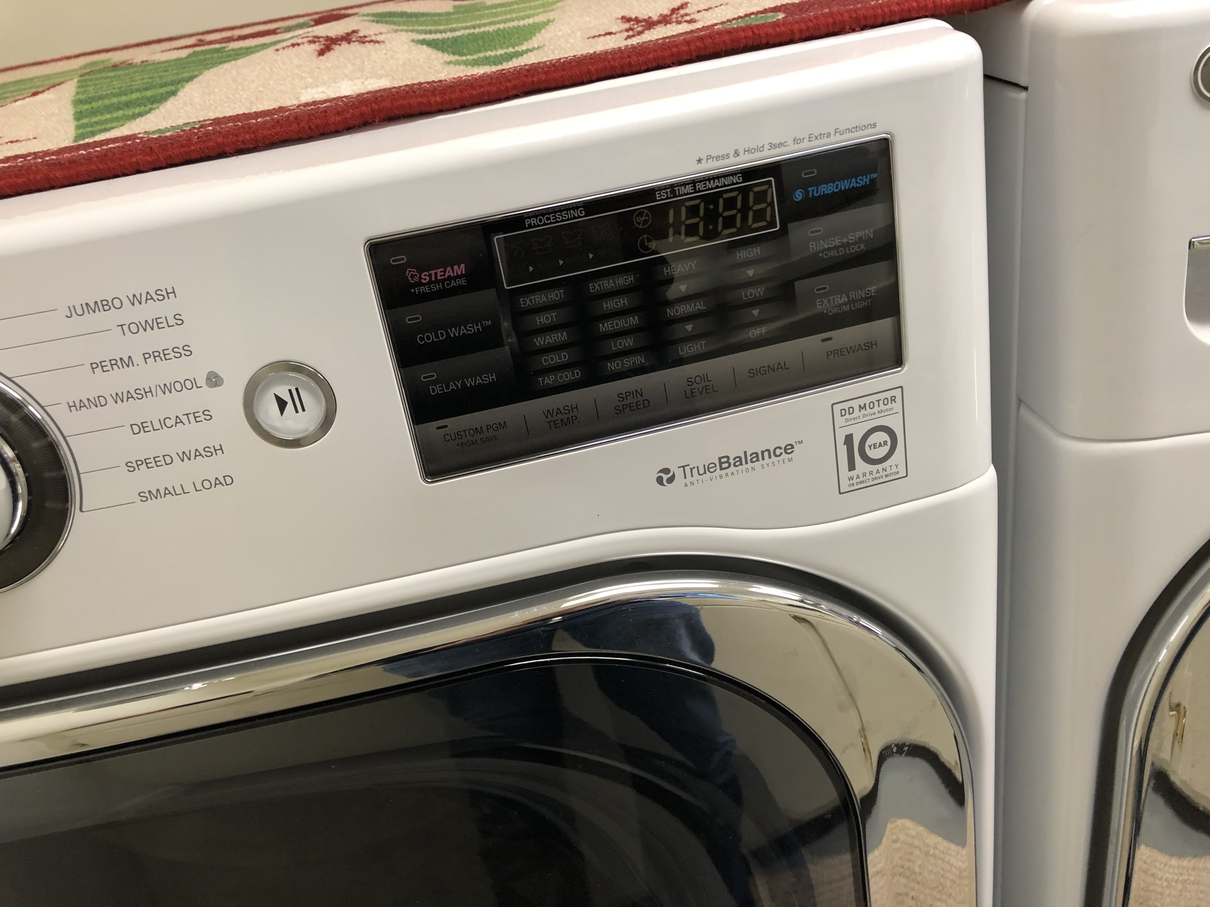status: (473, 167, 795, 297)
